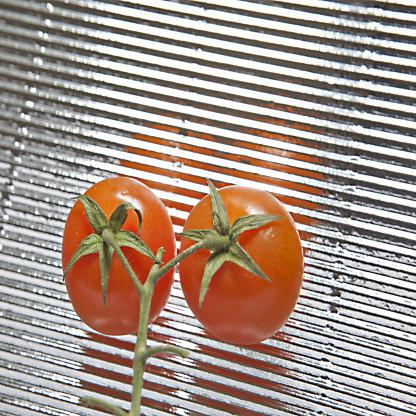tomato: (178, 185, 312, 353), (58, 174, 176, 342)
